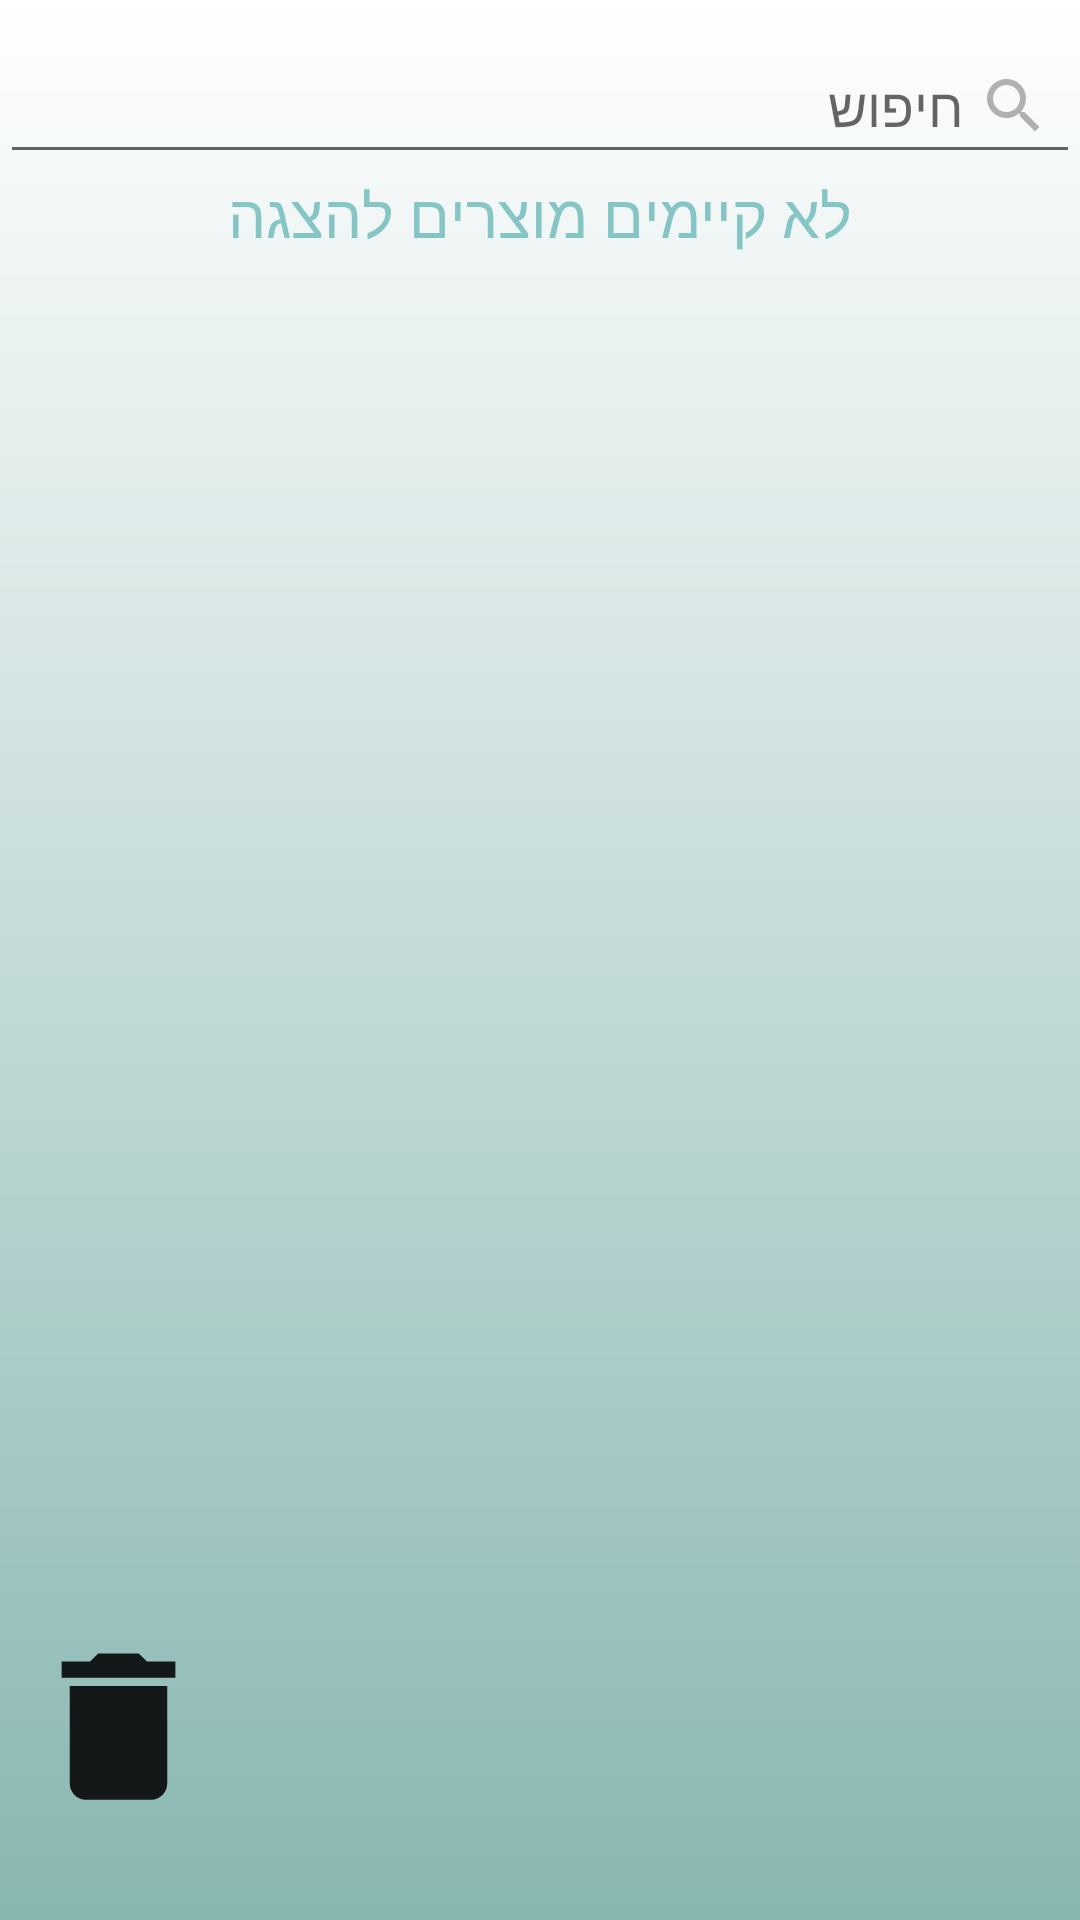

Where icons sit on this 1080×1920 app screen, as box(x1, y1, x2, y2):
delete size: box(61, 1653, 176, 1800)
